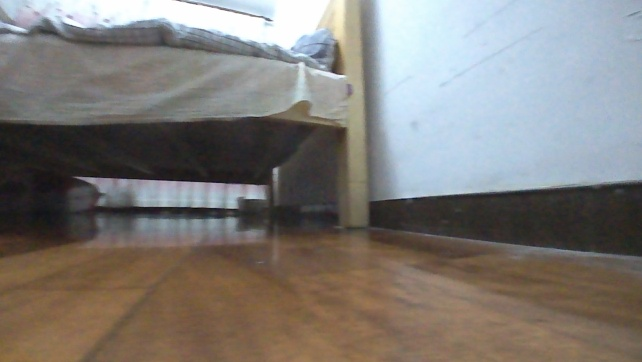bed1: (0, 0, 375, 232)
